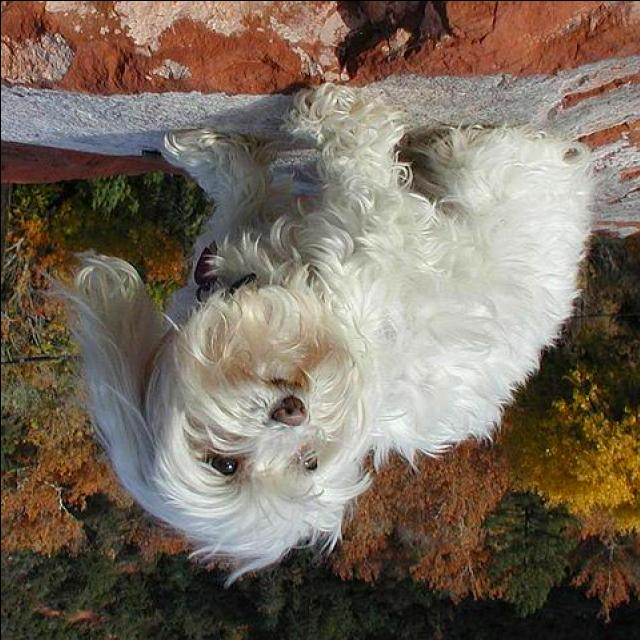maltese_dog: (39, 82, 594, 585)
